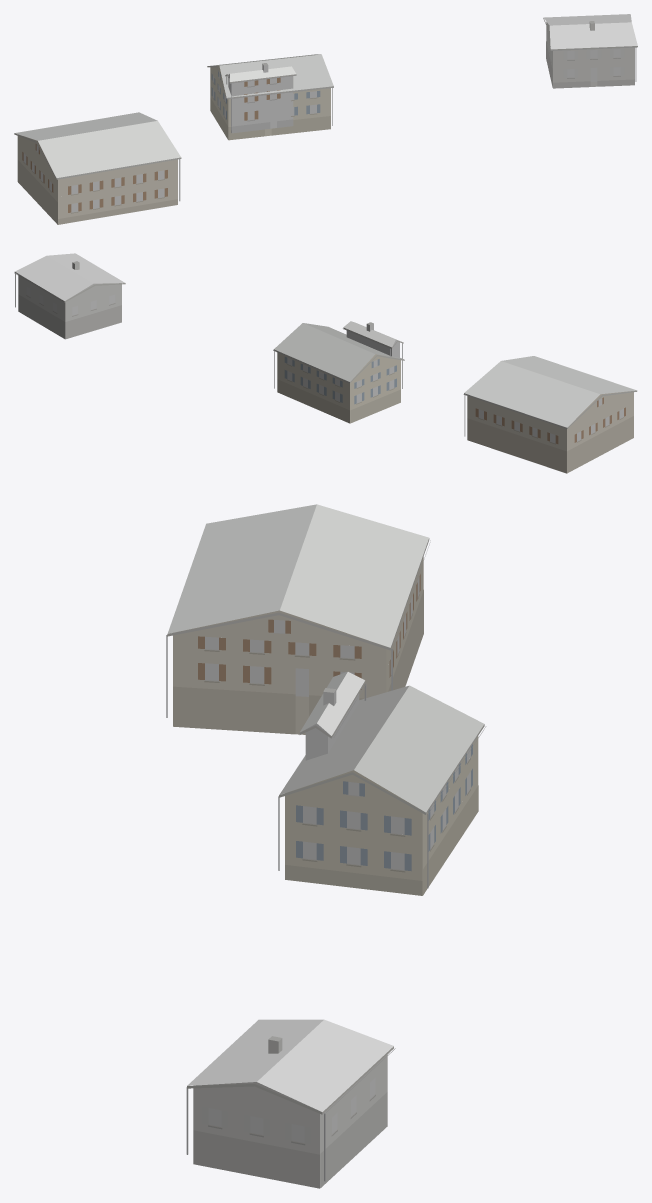
3 renders of one model, top to bottom at view 1: azimuth 30°, elevation 25°; view 2: azimuth 150°, elevation 25°; view 3: azimuth 270°, elevation 25°, orthographic. The views are drawn at different scales.
Parts seen in each view (by area): view 1: bld; view 2: bld; view 3: bld.
Boxes of the visible parts, x1,y1,x2,y2 form: bld: (14, 14, 637, 224); bld: (14, 253, 637, 473); bld: (166, 504, 486, 1188).
Bounding box in the file's own units: 96.12 × 12.23 × 22.49.
